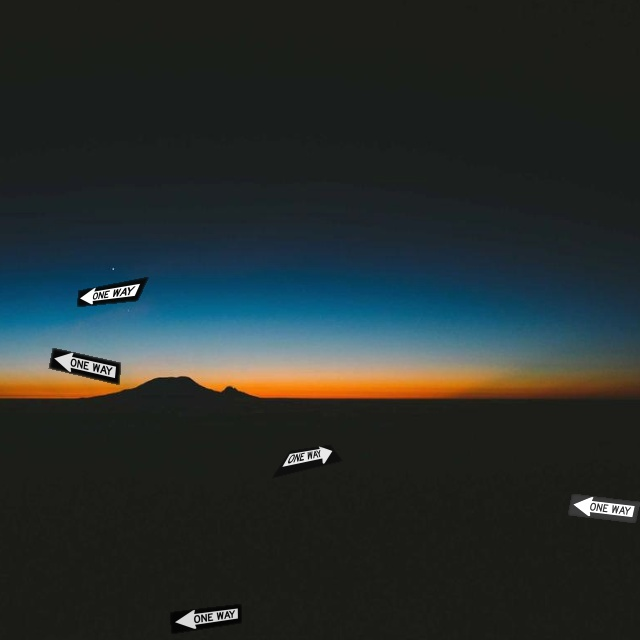ONE_WAY_ left: (48, 347, 121, 385), (76, 276, 149, 307), (169, 603, 242, 634), (567, 493, 640, 523)
ONE_WAY_ right: (270, 444, 343, 479)
